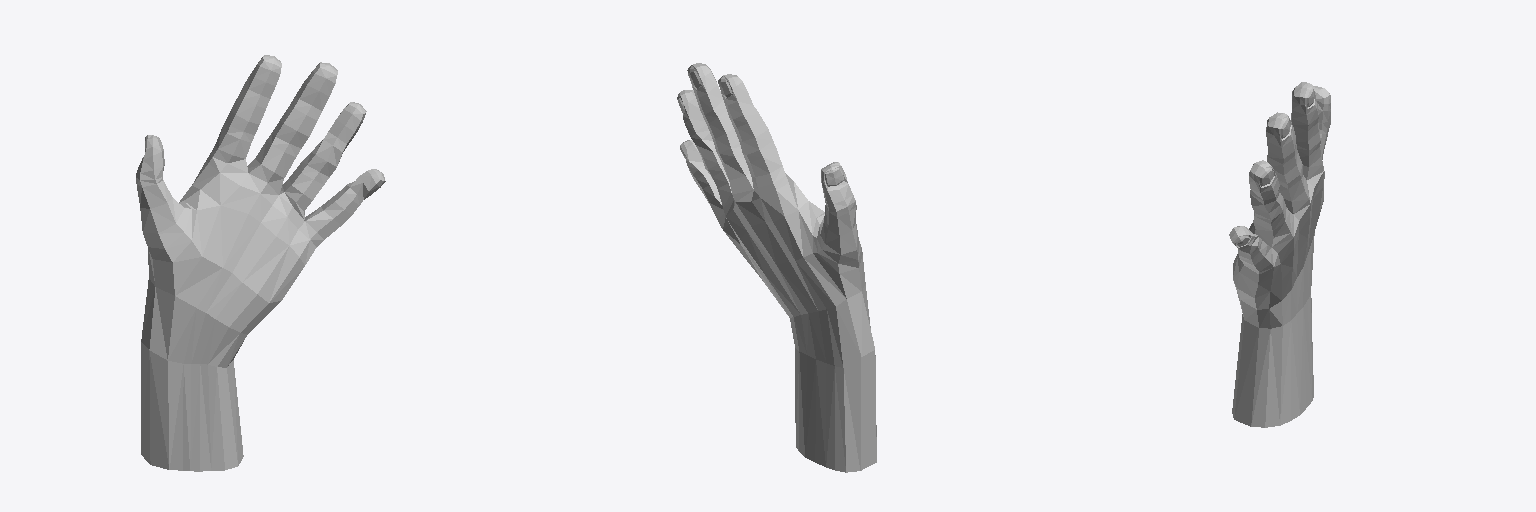
File: handAnimated4_000133.obj
3 renders of one model, left to right at view 1: azimuth 30°, elevation 25°; view 2: azimuth 150°, elevation 25°; view 3: azimuth 270°, elevation 25°, orthographic.
Visible parts, largest first — view 1: Cube.000_Cube.017_Detached_Detached; view 2: Cube.000_Cube.017_Detached_Detached; view 3: Cube.000_Cube.017_Detached_Detached.
Part boxes in pixels (left/top/right/bottom): Cube.000_Cube.017_Detached_Detached: left=136, top=55, right=385, bottom=471; Cube.000_Cube.017_Detached_Detached: left=677, top=63, right=876, bottom=472; Cube.000_Cube.017_Detached_Detached: left=1229, top=82, right=1330, bottom=427.
Size of the model in its own units: 0.7503 by 1.23 by 0.3096.